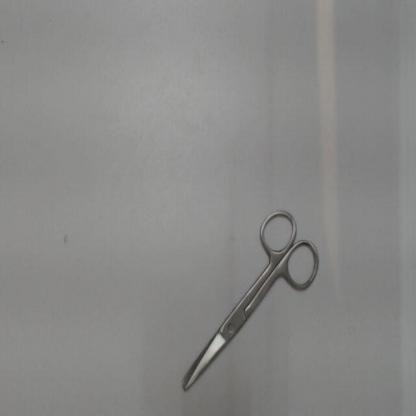Dressing Scissors: (174, 199, 333, 398)
